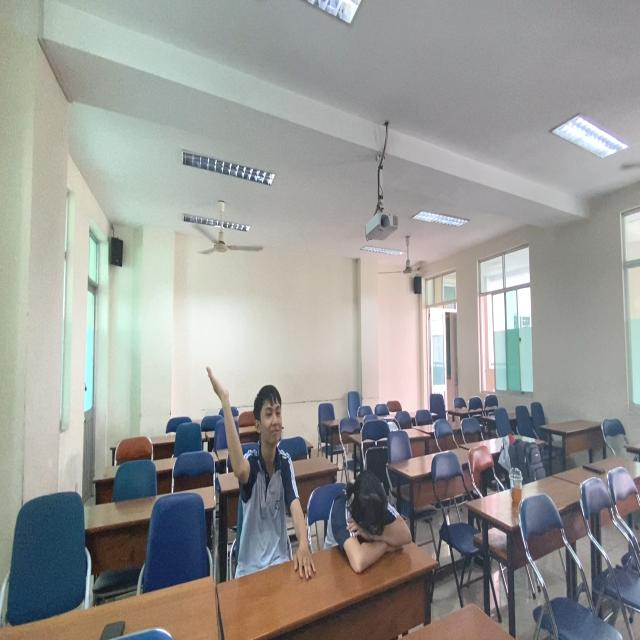raise_hand: (208, 361, 292, 578)
sleep: (327, 473, 415, 573)
